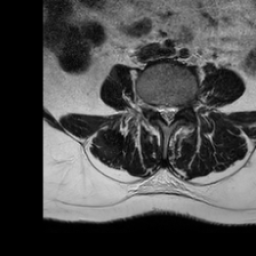CCS_normal: (164, 98, 171, 131)
LFS_severe_stenosis: (180, 96, 189, 119)
LLS_stenosis: (171, 98, 180, 122)
RFS_stenosis: (146, 96, 155, 119)
RLS_normal: (155, 97, 164, 122)
